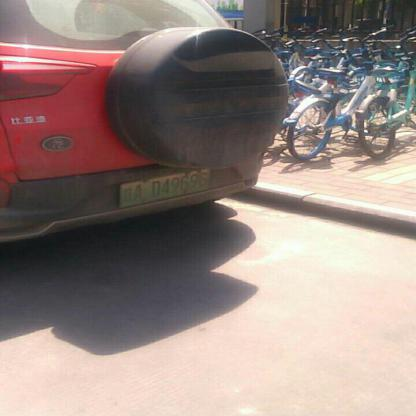lp: (119, 168, 209, 206)
